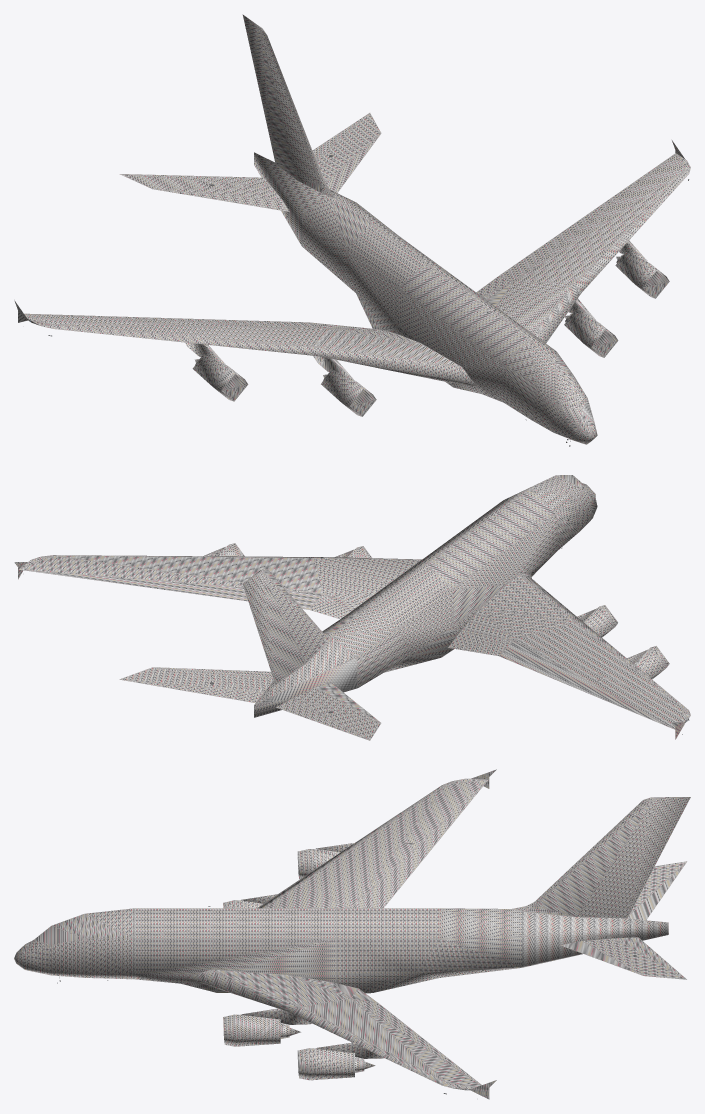
The model's file is TFS_Airbus_A380_RR_LOD1.gltf.
The picture shows the model from 3 angles, top to bottom: view 1: azimuth 30°, elevation 25°; view 2: azimuth 150°, elevation 25°; view 3: azimuth 270°, elevation 25°; orthographic projection. The views are drawn at different scales.
Visible parts, largest first — view 1: fuselage; view 2: fuselage; view 3: fuselage.
Part boxes in pixels (x1,y1,x2,y2): fuselage: (14, 14, 690, 444); fuselage: (14, 475, 690, 740); fuselage: (14, 769, 690, 1099).
Size of the model in its own units: 79.69 by 22.99 by 73.22.
